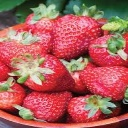strawberry: (10, 52, 77, 91), (52, 10, 101, 59), (21, 91, 72, 121), (65, 93, 114, 124), (87, 34, 128, 67)
